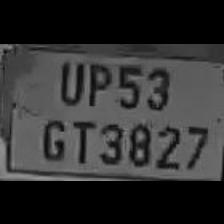2: (152, 119, 180, 170)
3: (143, 60, 171, 110), (95, 116, 123, 166)
5: (112, 60, 142, 108)
7: (180, 119, 208, 170)
8: (126, 116, 150, 166)
G: (39, 113, 67, 161)
P: (84, 57, 112, 106)
T: (68, 114, 94, 164)
U: (55, 55, 85, 106)
